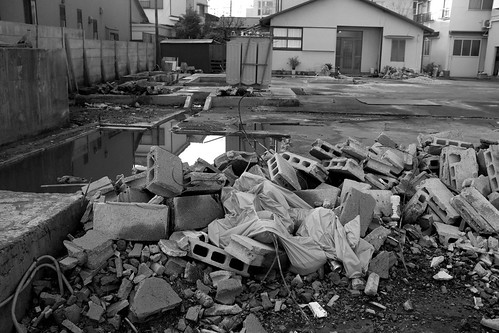building: (269, 1, 429, 74), (422, 1, 499, 77)
debris: (53, 103, 499, 333)
